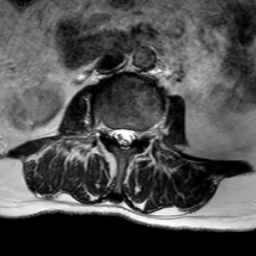CCS_normal: (119, 116, 129, 157)
LFS_normal: (137, 119, 146, 147)
LLS_normal: (129, 116, 137, 151)
RFS_normal: (102, 115, 110, 146)
RLS_normal: (110, 118, 119, 149)
